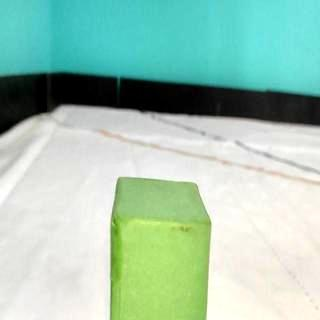greenbox: (110, 176, 212, 320)
